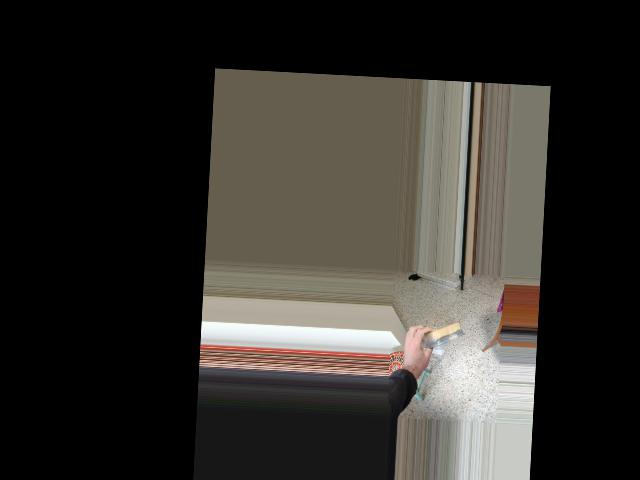cheese: (399, 304, 468, 361)
